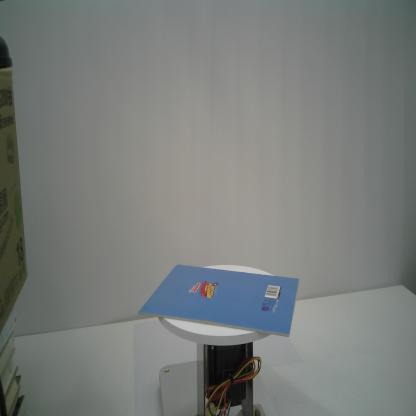Stationery: (137, 264, 300, 337)
